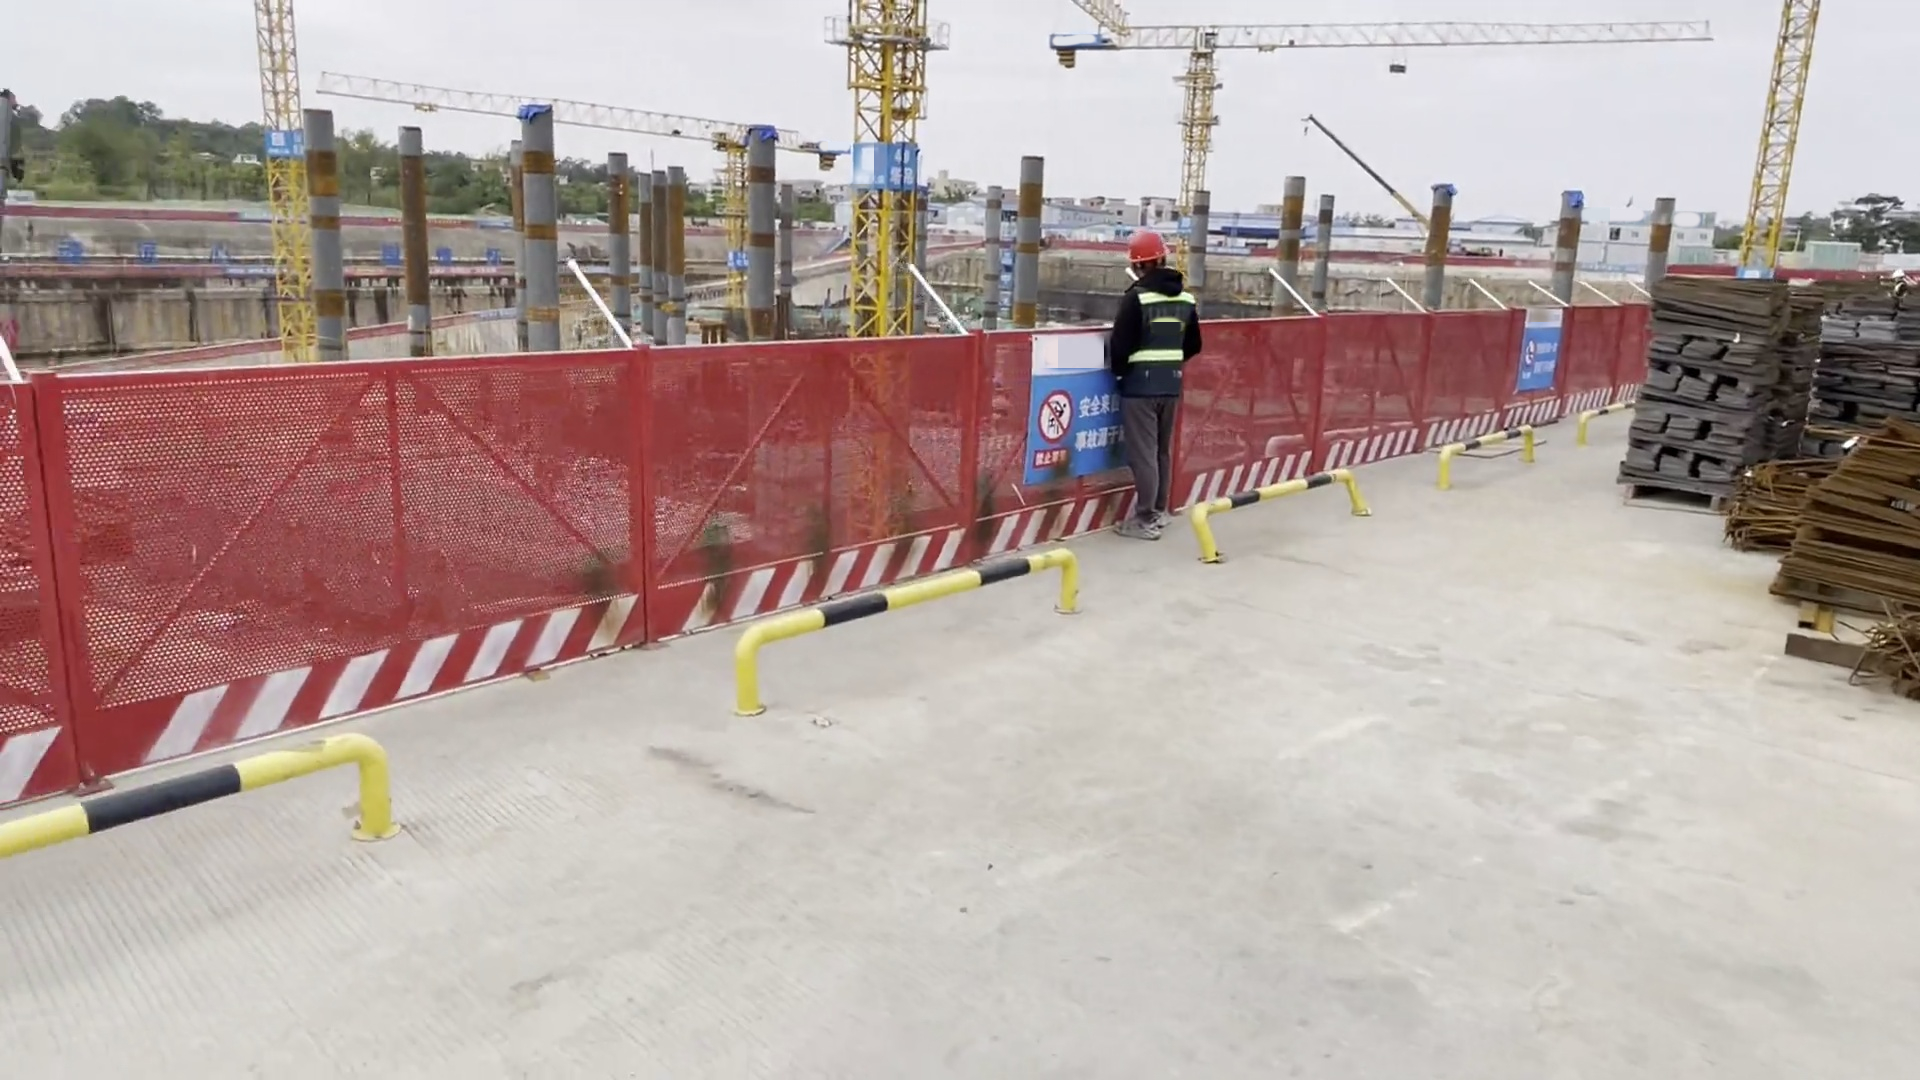fence: (1, 355, 653, 801), (648, 326, 1103, 632), (1177, 304, 1650, 500)
helmet: (1124, 230, 1175, 272)
hook: (8, 153, 25, 181), (1390, 61, 1406, 73)
person: (1106, 226, 1198, 541), (1885, 266, 1905, 314)
slogan: (1027, 336, 1117, 467), (1518, 308, 1561, 390), (885, 144, 917, 189), (268, 130, 303, 156), (426, 267, 497, 274), (237, 209, 279, 222), (425, 218, 464, 229), (346, 266, 390, 276), (224, 269, 278, 276), (479, 309, 522, 316), (731, 253, 748, 267), (383, 218, 400, 226)
vest: (1127, 285, 1190, 393)
